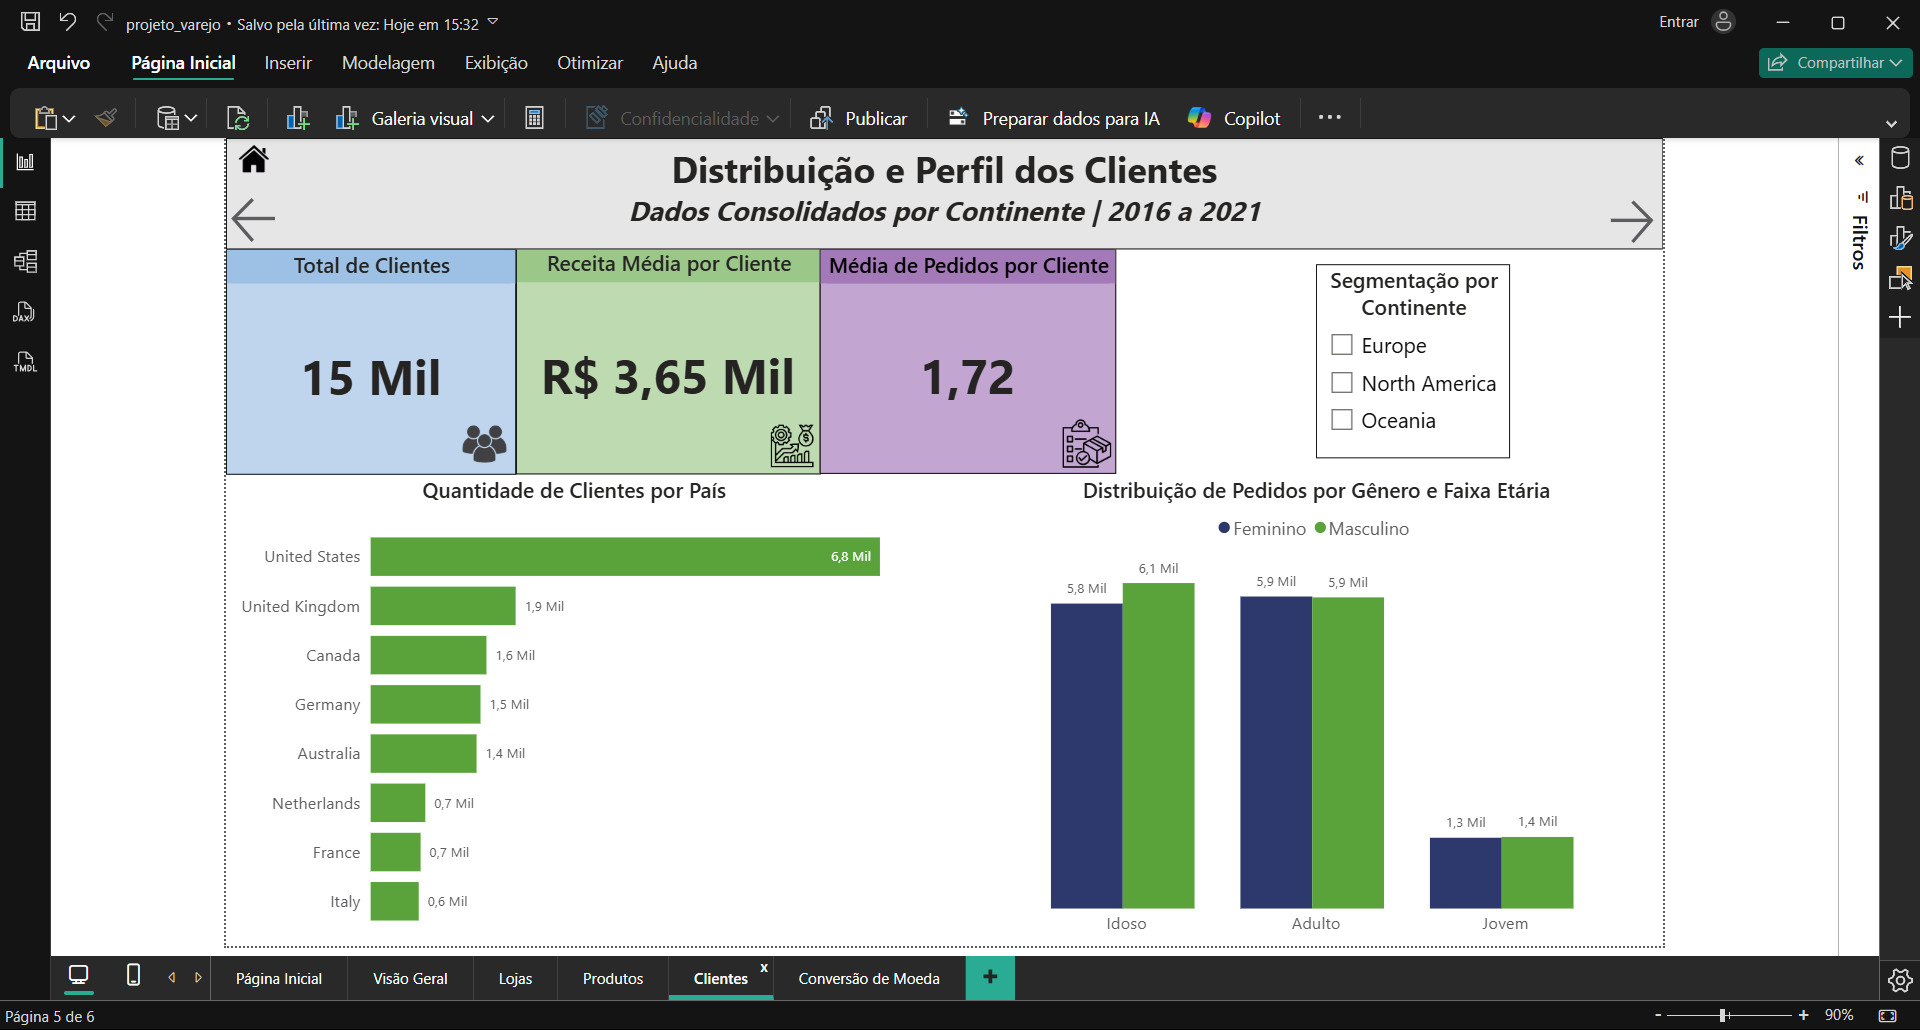

Layout of this report page (visuals, bound fields, positions):
{"tool":"powerbi","page":{"name":"Clientes","canvas":[1280,720],"ordinal":4},"visuals":[{"type":"card","title":"Total de Clientes","fields":{"Values":["Medidas.numero_clientes"]},"box":[0,99.6,258.3,200.5],"z":0},{"type":"card","title":"Receita Média por Cliente","fields":{"Values":["Medidas.ticket_cliente"]},"box":[258.3,98.1,271.2,202],"z":1000},{"type":"card","title":"Média de Pedidos por Cliente","fields":{"Values":["Medidas.pedidos_cliente"]},"box":[528.8,99.4,263.8,200],"z":2000},{"type":"clusteredBarChart","title":"Quantidade de Clientes por País","fields":{"Y":["Medidas.numero_clientes"],"Category":["dClientes.pais"]},"box":[0,300.1,620.4,419.8],"z":5000},{"type":"textbox","box":[0,0,1280,99.6],"z":5001},{"type":"slicer","title":"Segmentação por Continente","fields":{"Values":["dClientes.continente"]},"box":[971,112.5,173.1,173.1],"z":5002},{"type":"clusteredColumnChart","title":"Distribuição de Pedidos por Gênero e Faixa Etária","fields":{"Y":["Medidas.qtd_pedidos"],"Category":["dClientes.faixa_etaria"],"Series":["dClientes.genero"]},"box":[662.2,300.1,617.5,419.8],"z":5003},{"type":"image","box":[479.8,247.9,49.1,52.8],"z":5004},{"type":"image","box":[739.9,245.4,52.8,54],"z":5005},{"type":"image","box":[202.5,245.4,55.2,55.2],"z":5006},{"type":"actionButton","box":[1227,50.3,52.8,49.1],"z":5007},{"type":"actionButton","box":[0,47.9,52.8,50.3],"z":5008},{"type":"image","box":[0,0,50.3,36.8],"z":5009}]}

Visuals, with their boxes on the page's 1280x720 design canvas (x1, y1, x2, y2). These are canvas units, not pixel positions in the 1920x1030 screenshot, which may show the page scaled, cropped or inside an application window:
"Total de Clientes" card: x1=0 y1=100 x2=258 y2=300
"Receita Média por Cliente" card: x1=258 y1=98 x2=530 y2=300
"Média de Pedidos por Cliente" card: x1=529 y1=99 x2=793 y2=299
"Quantidade de Clientes por País" clusteredBarChart: x1=0 y1=300 x2=620 y2=720
textbox: x1=0 y1=0 x2=1280 y2=100
"Segmentação por Continente" slicer: x1=971 y1=112 x2=1144 y2=286
"Distribuição de Pedidos por Gênero e Faixa Etária" clusteredColumnChart: x1=662 y1=300 x2=1280 y2=720
image: x1=480 y1=248 x2=529 y2=301
image: x1=740 y1=245 x2=793 y2=299
image: x1=202 y1=245 x2=258 y2=301
actionButton: x1=1227 y1=50 x2=1280 y2=99
actionButton: x1=0 y1=48 x2=53 y2=98
image: x1=0 y1=0 x2=50 y2=37
